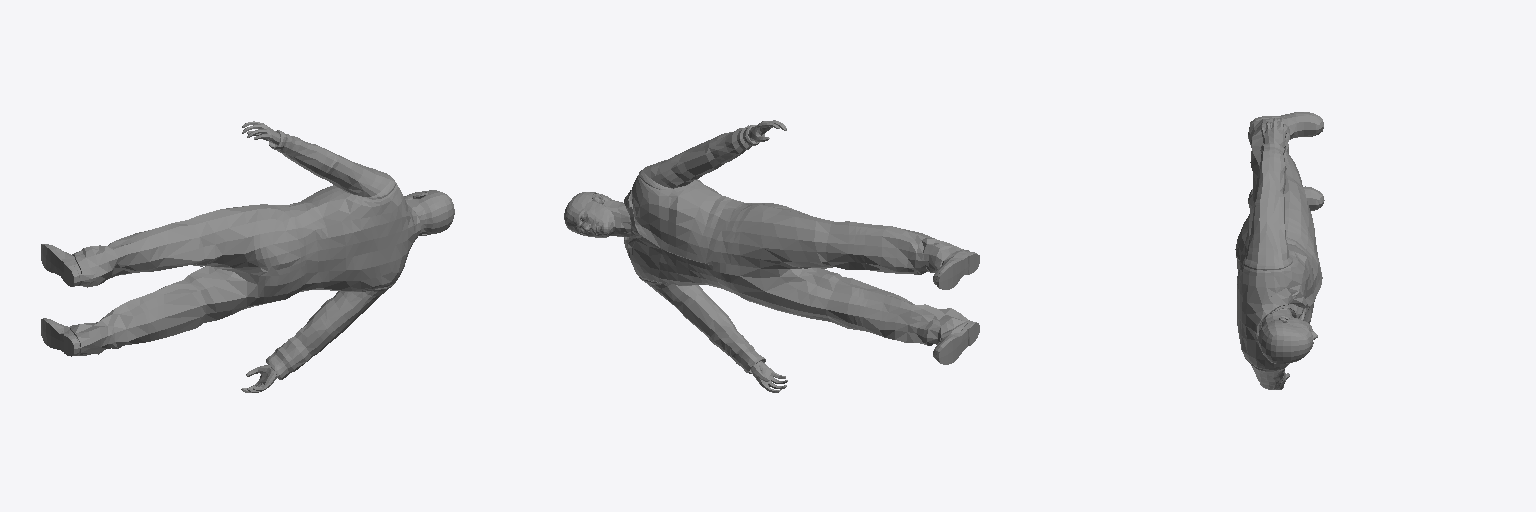
Rendered from Player.obj.
The picture shows the model from 3 angles: view 1: azimuth 30°, elevation 25°; view 2: azimuth 150°, elevation 25°; view 3: azimuth 270°, elevation 25°; orthographic projection.
Size of the model in its own units: 1.82 by 1.19 by 0.3564.